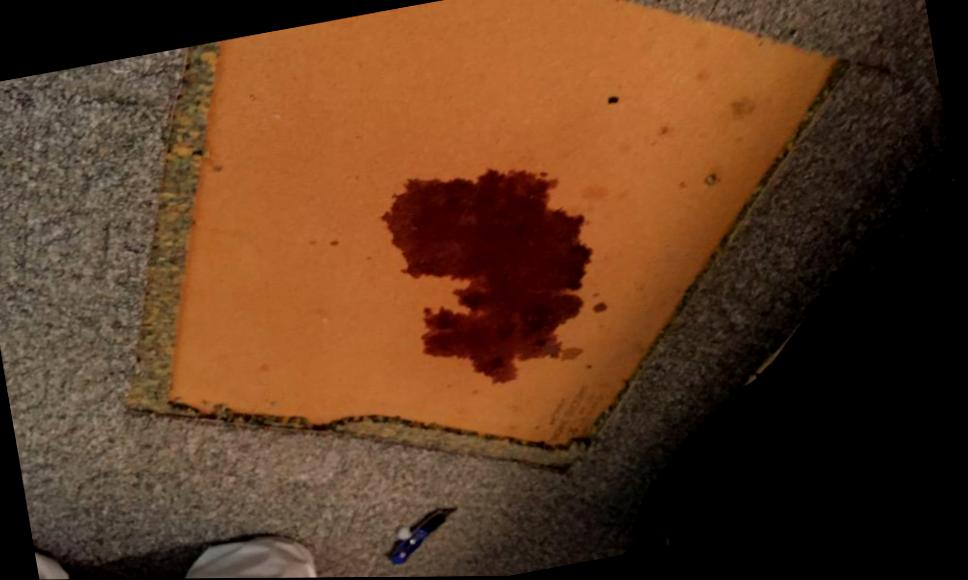Fire: (382, 169, 594, 384)
